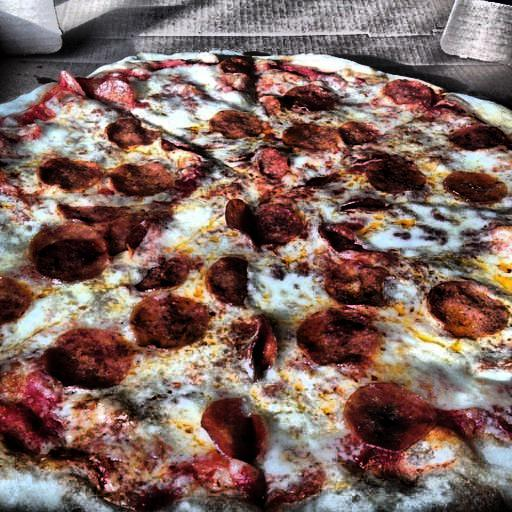pizza: (5, 45, 512, 500)
